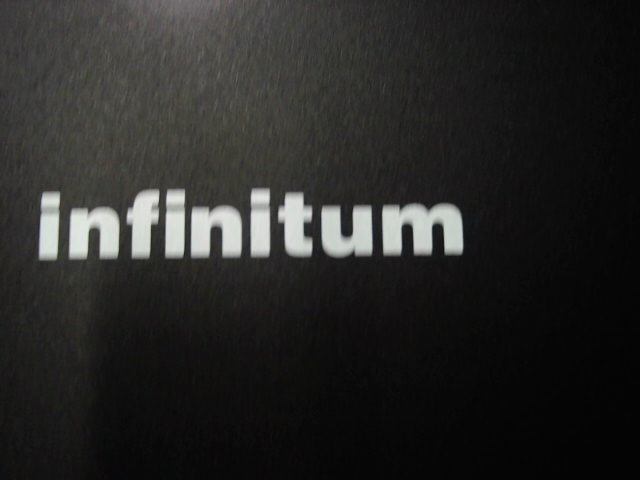BK_infinitum: (20, 181, 479, 267)
